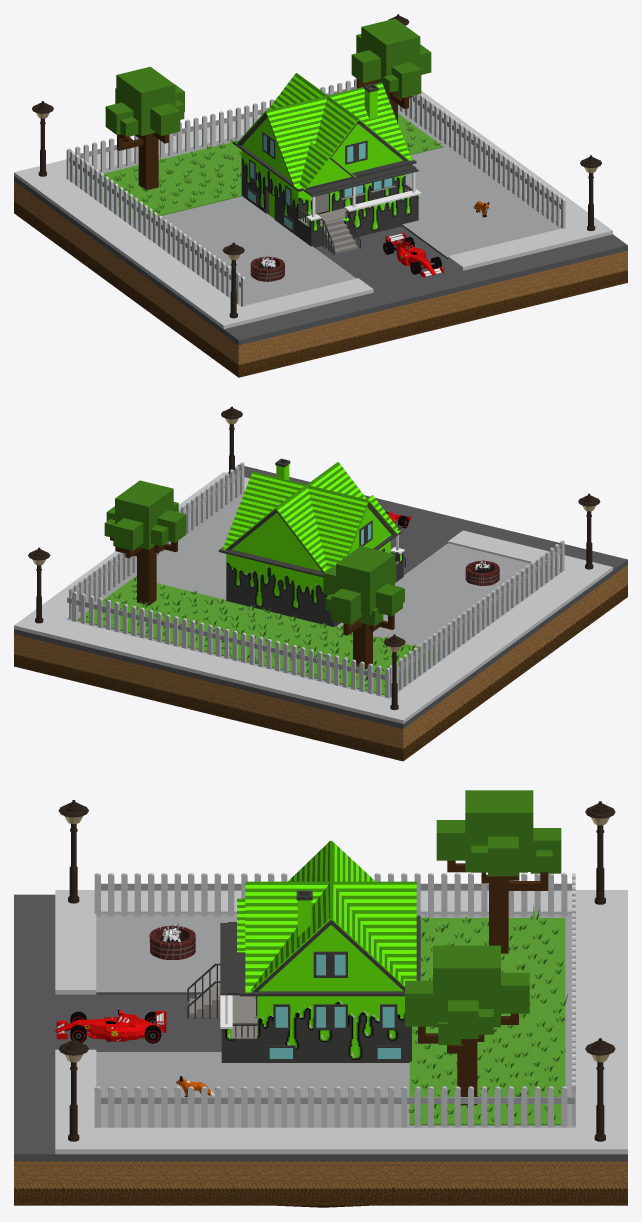
The picture shows the model from 3 angles, top to bottom: view 1: azimuth 30°, elevation 25°; view 2: azimuth 150°, elevation 25°; view 3: azimuth 270°, elevation 25°; orthographic projection. The views are drawn at different scales.
Visible parts, largest first — view 1: Cube.004, Cube.754, VEHICLES_FORMULA_1, OBJRANDOM_CAMPFIRE; view 2: Cube.004, Cube.754, OBJRANDOM_CAMPFIRE; view 3: Cube.004, Cube.754, VEHICLES_FORMULA_1, OBJRANDOM_CAMPFIRE.
Part boxes in pixels (x1,y1,x2,y2): Cube.004: (14,14,627,377); Cube.754: (233,73,421,254); VEHICLES_FORMULA_1: (383,232,443,277); OBJRANDOM_CAMPFIRE: (250,255,284,281); Cube.004: (14,406,627,761); Cube.754: (218,458,405,626); OBJRANDOM_CAMPFIRE: (465,556,499,585); Cube.004: (14,790,627,1205); Cube.754: (187,840,420,1062); VEHICLES_FORMULA_1: (55,1009,166,1043); OBJRANDOM_CAMPFIRE: (149,923,195,959).
Size of the model in its own units: 4000 by 1666 by 4000.
Materials: 37 (4 with a texture image).
